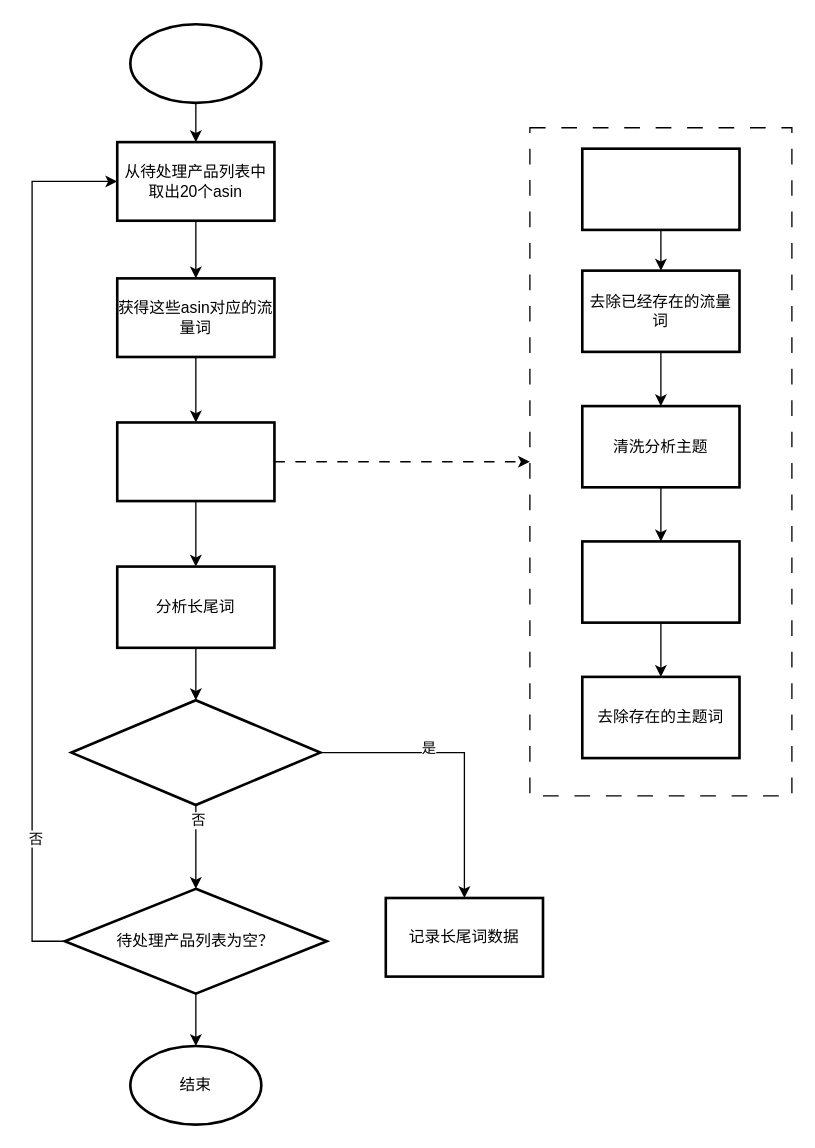
Some shapes in this 815 by 1148 pixel diagram are drawn without their labels. The shapes that lost their labels are listed below. From the top down, each one's centre as x and y in pixels, then its label:
At point 195,62: "开始".
At point 660,189: "流量词录入数据库".
At point 195,461: "流量词预处理".
At point 660,581: "主题词录入数据库".
At point 195,752: "是否有长尾词".
